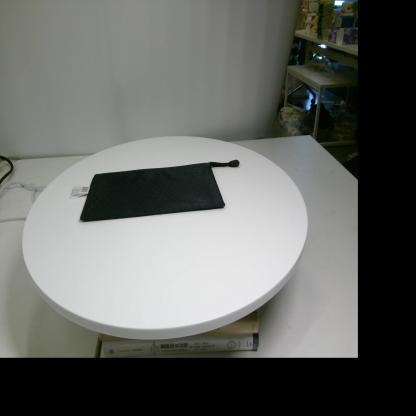Stationery: (70, 159, 240, 221)
